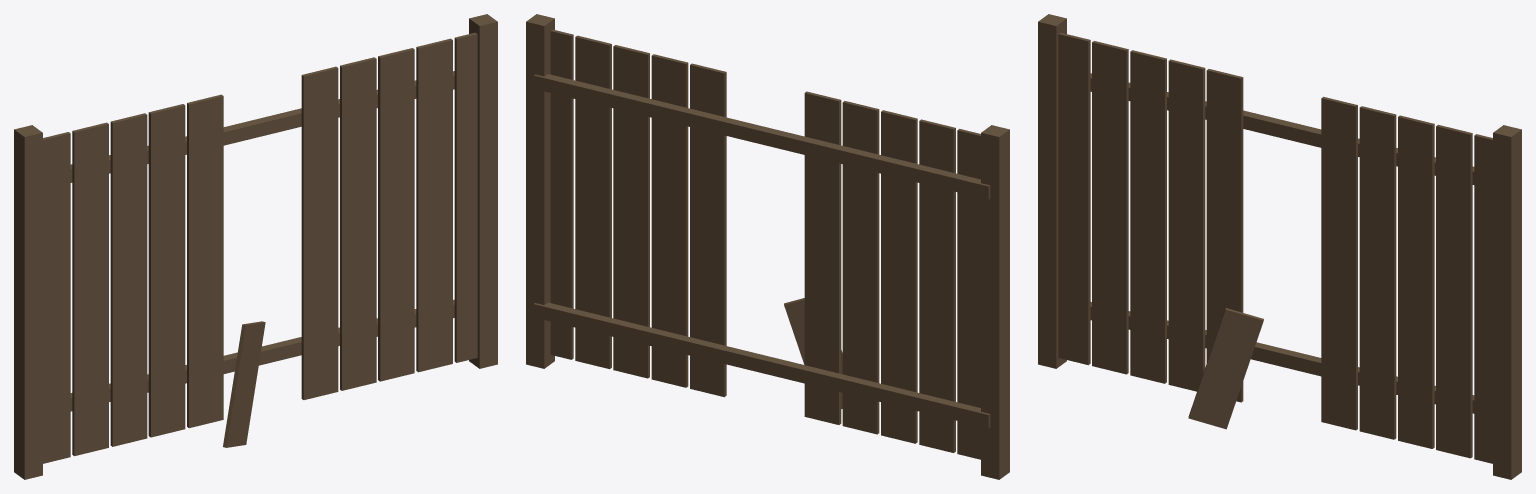
Rendered from hole_fence_boards.glb.
The picture shows the model from 3 angles, left to right: view 1: azimuth 30°, elevation 25°; view 2: azimuth 150°, elevation 25°; view 3: azimuth 330°, elevation 25°; orthographic projection.
Visible parts, largest first — view 1: boards_mesh; view 2: boards_mesh; view 3: boards_mesh.
Part boxes in pixels (left/top/right/bottom): boards_mesh: left=14, top=14, right=497, bottom=479; boards_mesh: left=526, top=14, right=1009, bottom=479; boards_mesh: left=1038, top=14, right=1521, bottom=479.
Size of what is drawn, in the model's own units: 2.6 by 1.81 by 0.3598.
